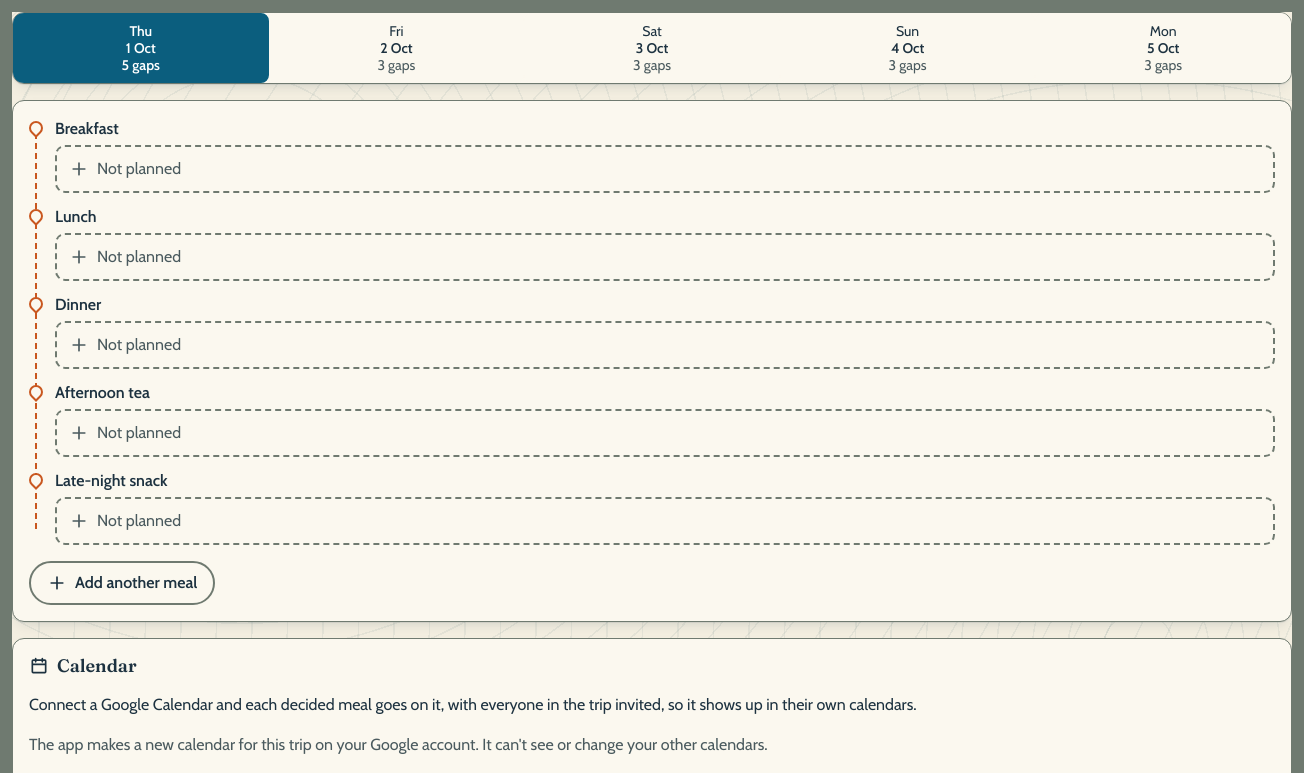
Test: renaming an other meal › can be cancelled, leaving the name as it was
Click the button "Afternoon tea Not planned". click: (665, 419)
box: [55,381,1275,457]
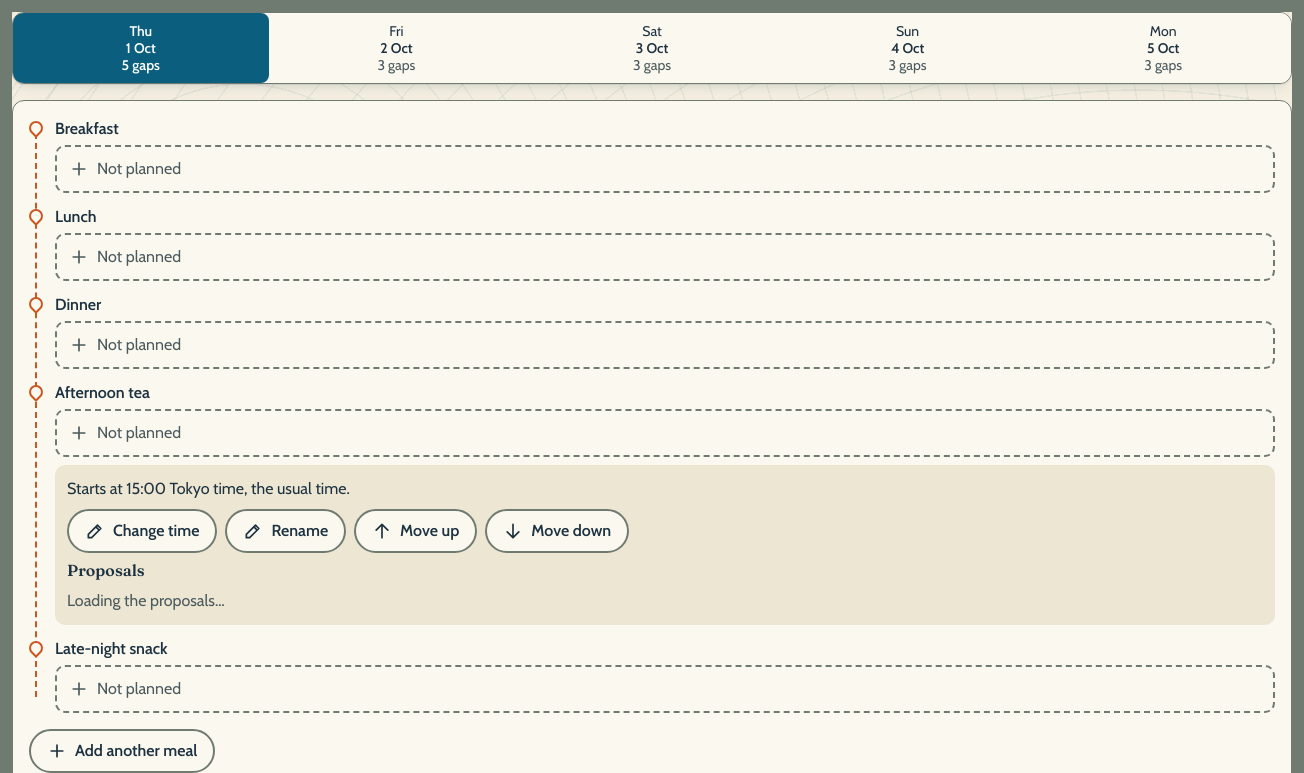
Click the button "Rename". click: (286, 531)
box: [225,509,346,553]
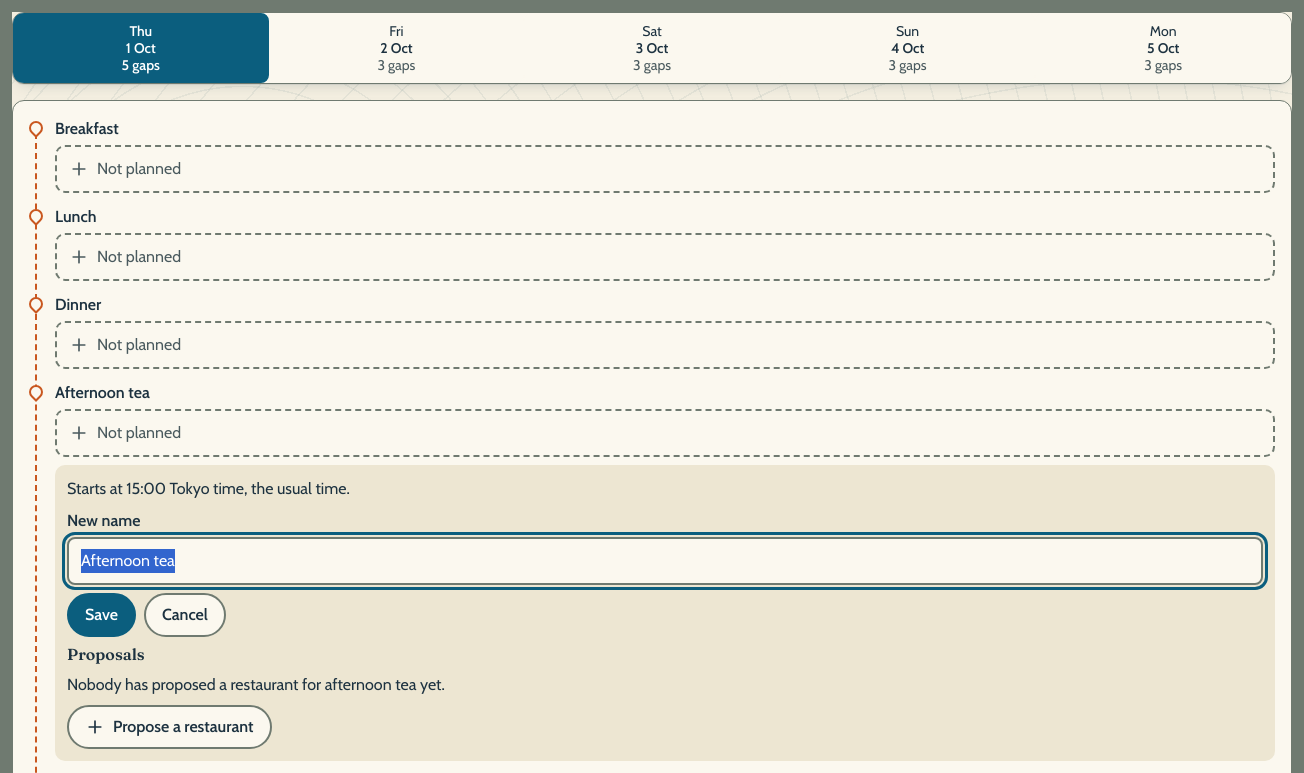
Replace the text in the field labelled "New name" with "Something else". click: (665, 561)
box: [67,537,1263,585]
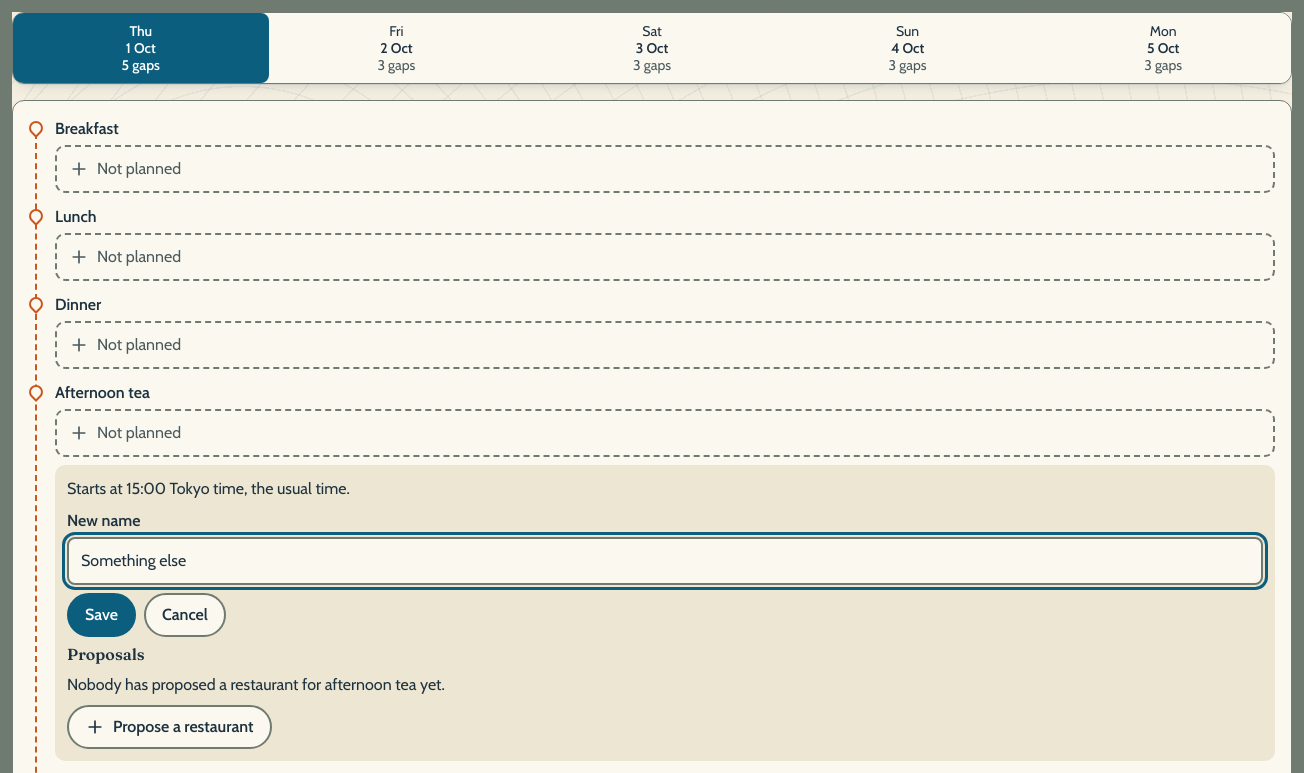
Click the button "Cancel". click: (185, 615)
box: [144,593,226,637]
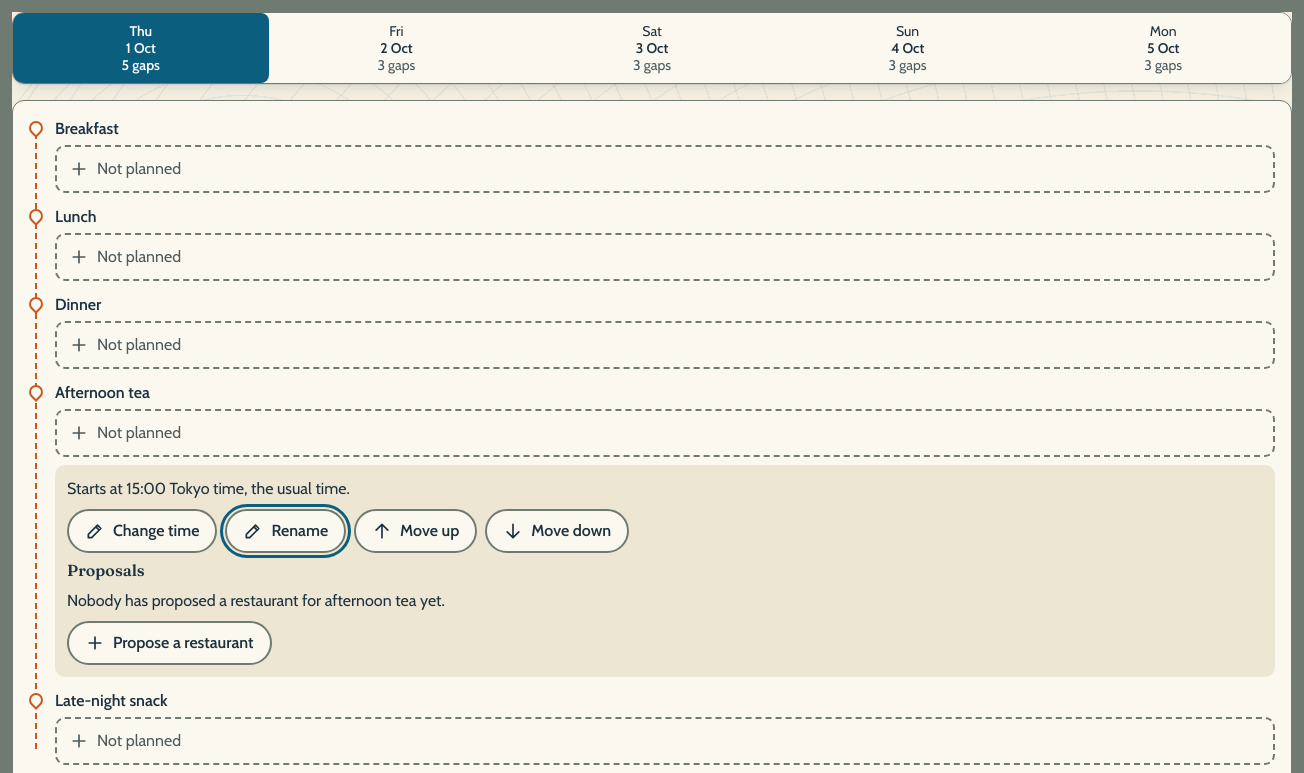
Expected: the button "Afternoon tea Not planned" is shown, [55,381,1275,457]
Result: the button "Rename" is shown at [225,509,346,553]
